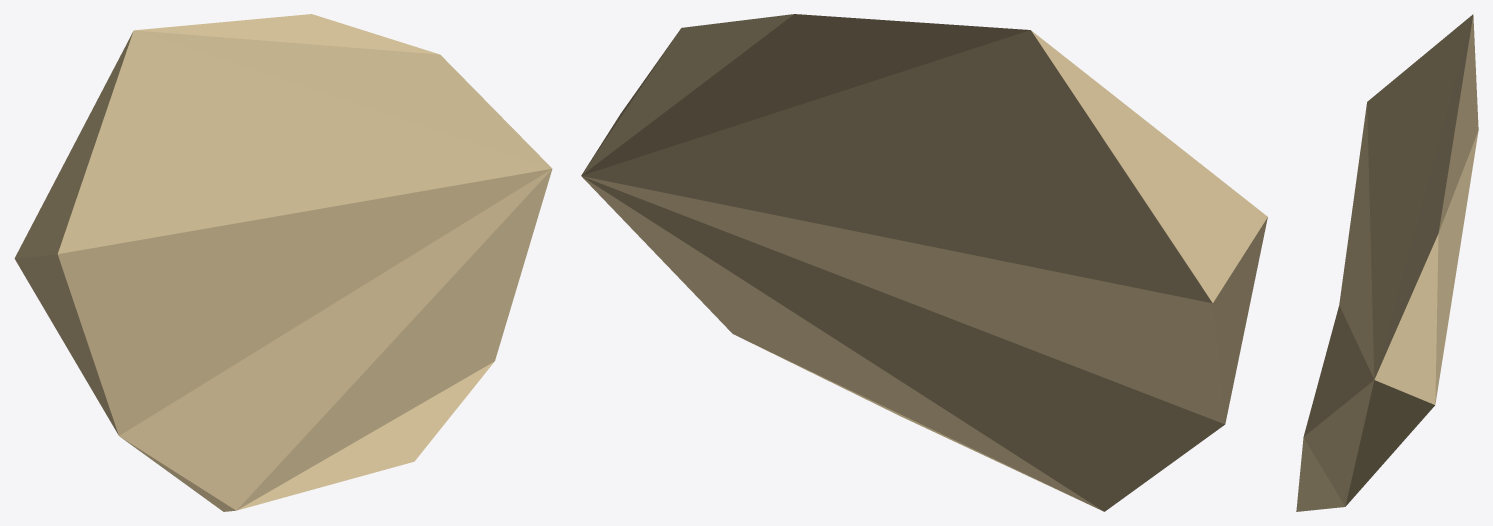
Rendered from Pepper_0.fbx.
3 views of the same model, side by side, from view 1: azimuth 30°, elevation 25°; view 2: azimuth 150°, elevation 25°; view 3: azimuth 270°, elevation 25° (orthographic). The views are drawn at different scales.
Parts seen in each view (by area): view 1: Pepper_0; view 2: Pepper_0; view 3: Pepper_0.
Boxes of the visible parts, bbox=[...] form: Pepper_0: bbox=[14, 14, 552, 511]; Pepper_0: bbox=[581, 14, 1267, 511]; Pepper_0: bbox=[1296, 14, 1478, 511].
Bounding box in the file's own units: 13.04 × 10.79 × 4.19.
